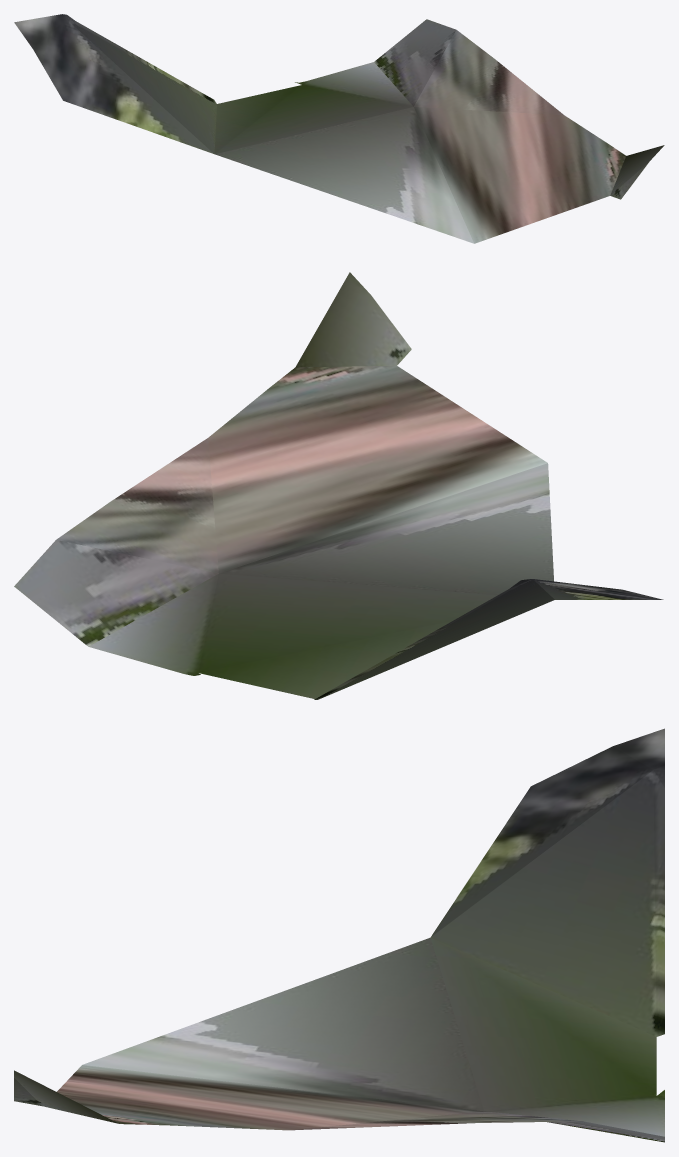
3 views of the same model, one above another, from view 1: azimuth 30°, elevation 25°; view 2: azimuth 150°, elevation 25°; view 3: azimuth 270°, elevation 25° (orthographic). The views are drawn at different scales.
Bounding box in the file's own units: 1.67 × 0.5048 × 1.67.
Materials: 2 (2 with a texture image).
